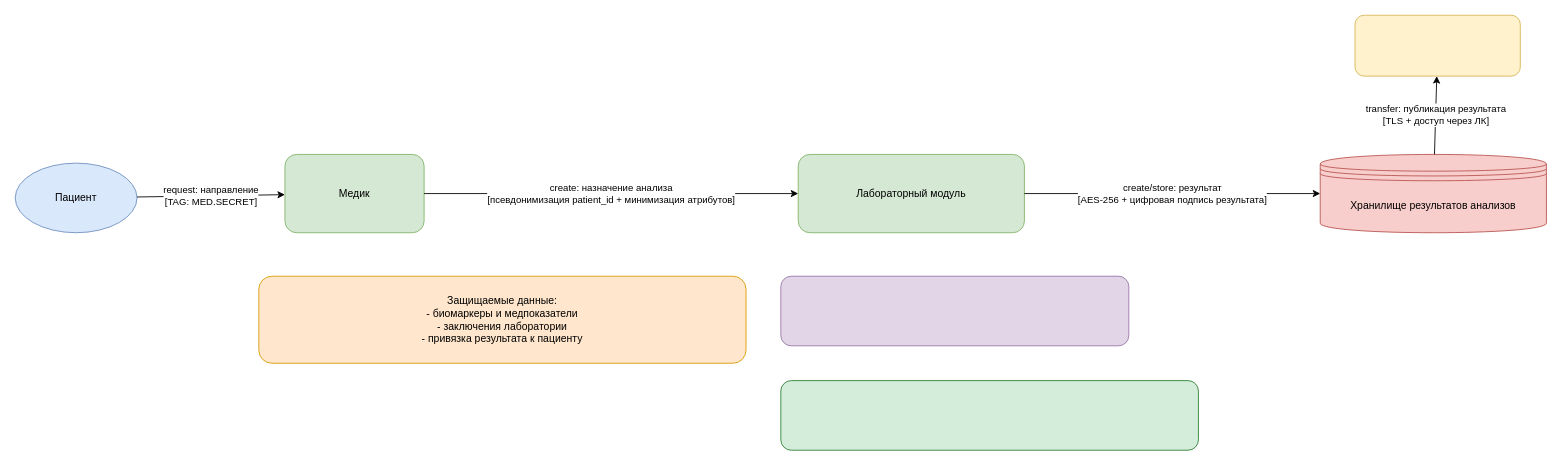
The diagram is 1562 pixels wide and 465 high, and some of its shapes have lost their labels. Each missing label, with the centre of its shape:
Инструменты/меры: secure portal, KMS, DLP, watermarking, журналы скачиваний: [989,415]
Пациентский портал: [1437,45]
Тегирование: ANALYSIS.HIGH, MED.SECRET, RETENTION.STRICT owner=HeadOfLab: [954,310]
